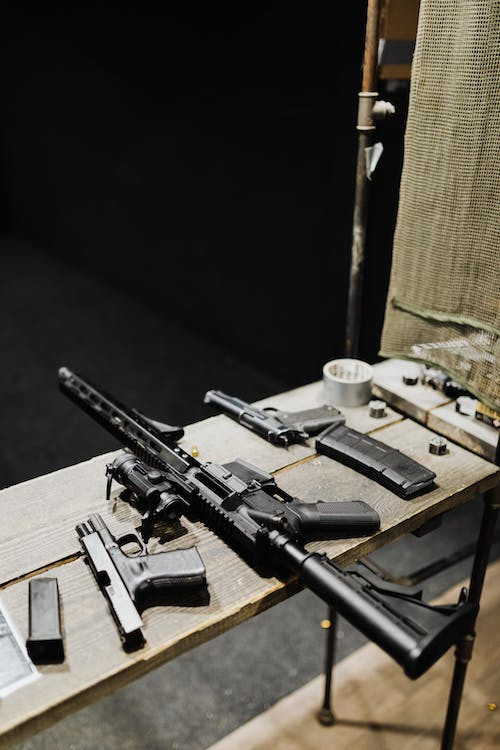gun: (53, 358, 483, 683), (71, 512, 210, 656), (197, 380, 348, 456)
